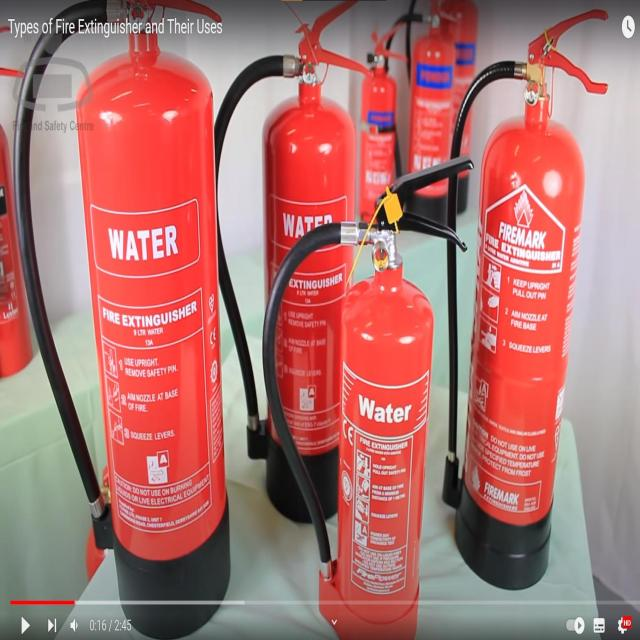fire_extinguisher: (10, 0, 235, 636), (259, 152, 476, 640), (439, 4, 612, 595), (195, 0, 377, 532), (372, 1, 459, 255), (0, 15, 40, 392), (355, 19, 405, 246)
